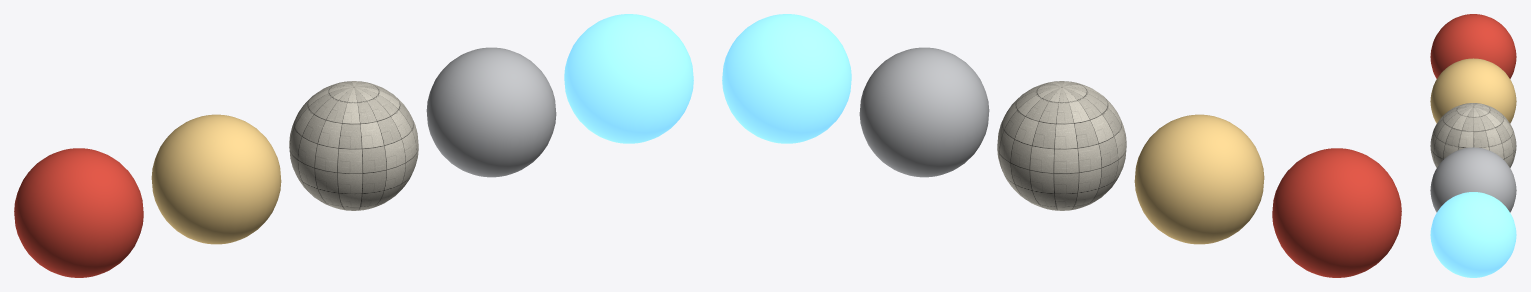
Rendered from showcase_materials.glb.
The picture shows the model from 3 angles, left to right: view 1: azimuth 30°, elevation 25°; view 2: azimuth 150°, elevation 25°; view 3: azimuth 270°, elevation 25°; orthographic projection. The views are drawn at different scales.
Parts seen in each view (by area): view 1: sphere_2, sphere_4, sphere_1, sphere_5, sphere_3; view 2: sphere_2, sphere_4, sphere_1, sphere_5, sphere_3; view 3: sphere_5, sphere_3, sphere_1, sphere_2, sphere_4.
Boxes of the visible parts, x1=… form: sphere_2: x1=151, y1=114, x2=281, y2=244; sphere_4: x1=426, y1=47, x2=556, y2=177; sphere_1: x1=14, y1=148, x2=143, y2=277; sphere_5: x1=564, y1=14, x2=693, y2=143; sphere_3: x1=289, y1=81, x2=418, y2=210; sphere_2: x1=1134, y1=114, x2=1264, y2=244; sphere_4: x1=859, y1=47, x2=989, y2=177; sphere_1: x1=1272, y1=148, x2=1401, y2=277; sphere_5: x1=722, y1=14, x2=851, y2=143; sphere_3: x1=997, y1=81, x2=1126, y2=210; sphere_5: x1=1430, y1=192, x2=1516, y2=277; sphere_3: x1=1430, y1=103, x2=1516, y2=167; sphere_1: x1=1430, y1=14, x2=1516, y2=78; sphere_2: x1=1430, y1=58, x2=1516, y2=123; sphere_4: x1=1430, y1=147, x2=1516, y2=212.
Bounding box in the file's own units: 5.3 × 0.9 × 0.9.
Materials: 5 (1 with a texture image).
